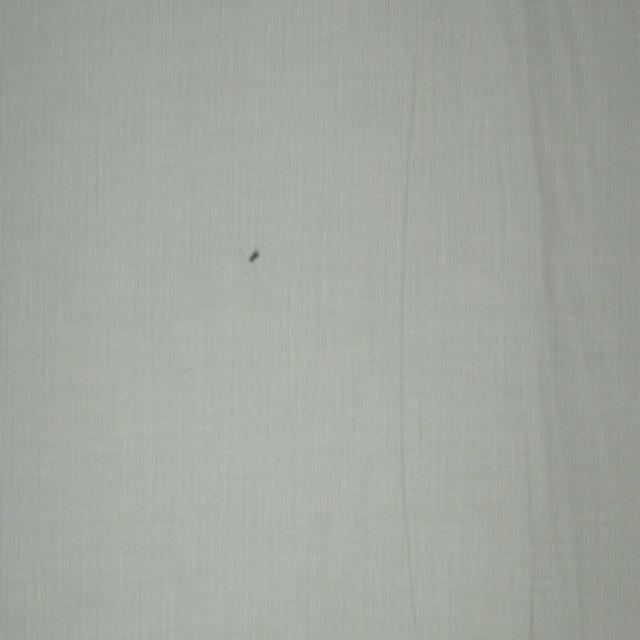dirty: (248, 251, 260, 263)
